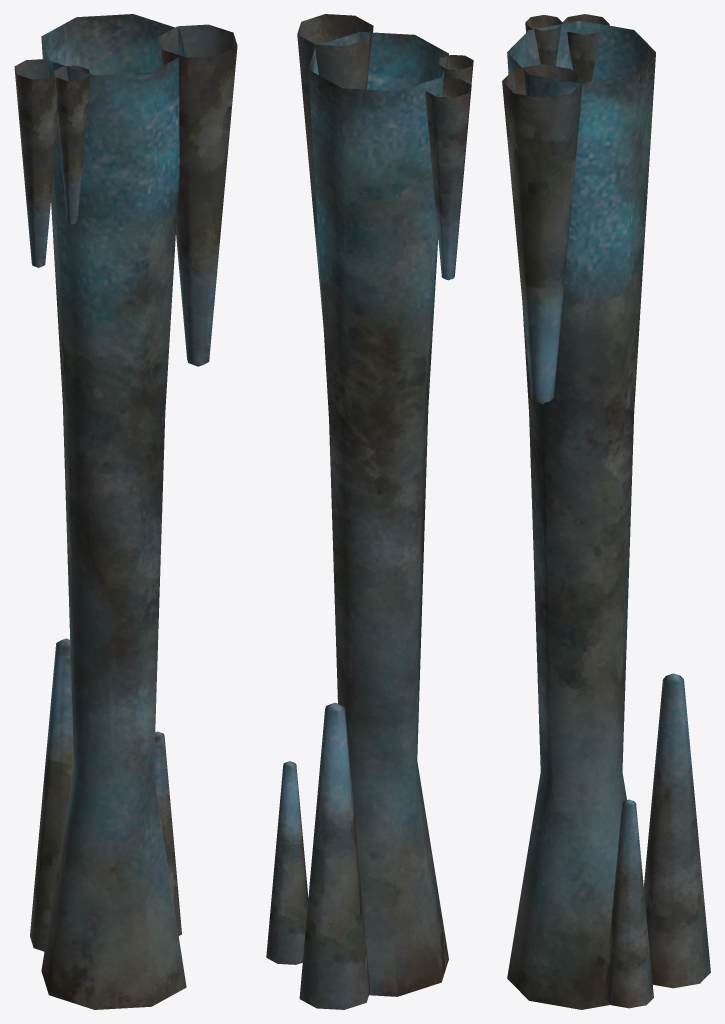
File: Winter_Pillar.fbx
3 renders of one model, left to right at view 1: azimuth 30°, elevation 25°; view 2: azimuth 150°, elevation 25°; view 3: azimuth 270°, elevation 25°, orthographic. The views are drawn at different scales.
Visible parts, largest first — view 1: pCylinder2; view 2: pCylinder2; view 3: pCylinder2.
Boxes of the visible parts, left/top/right/bottom form: pCylinder2: left=14, top=14, right=237, bottom=1009; pCylinder2: left=266, top=14, right=473, bottom=1009; pCylinder2: left=502, top=14, right=710, bottom=1009.
Bounding box in the file's own units: 255 × 1169 × 238.
1 material, 1 textured.
